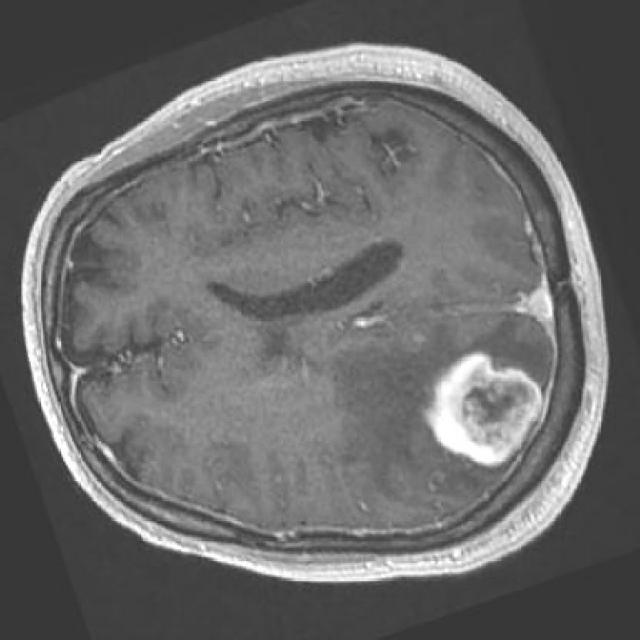Brain-Tumor: (419, 350, 552, 472)
